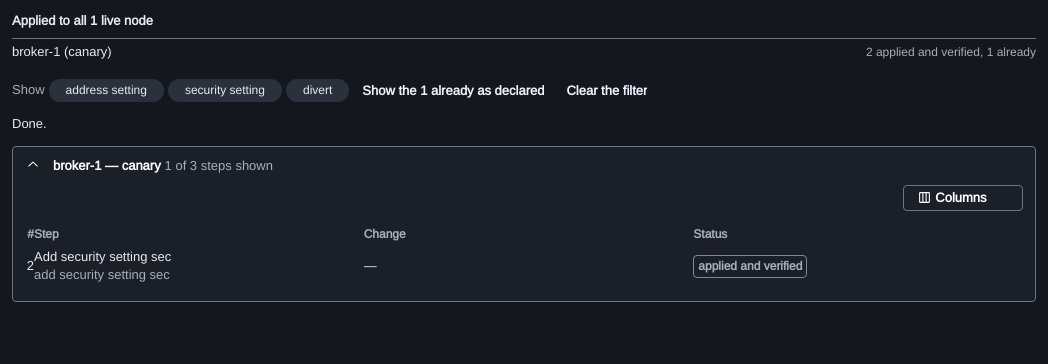
Test: ApplyResult step tables › narrows to the key drift hands over, and shows everything once the filter is cleared
This screenshot has width=1048, height=364.
expect the text "Add security setting sec" is shown: met, box [34,248,171,265]
expect the text "Replace address setting orders.#" is not shown: met
Click the button "Clear the filter" at (607, 90), box [557,77,656,103]
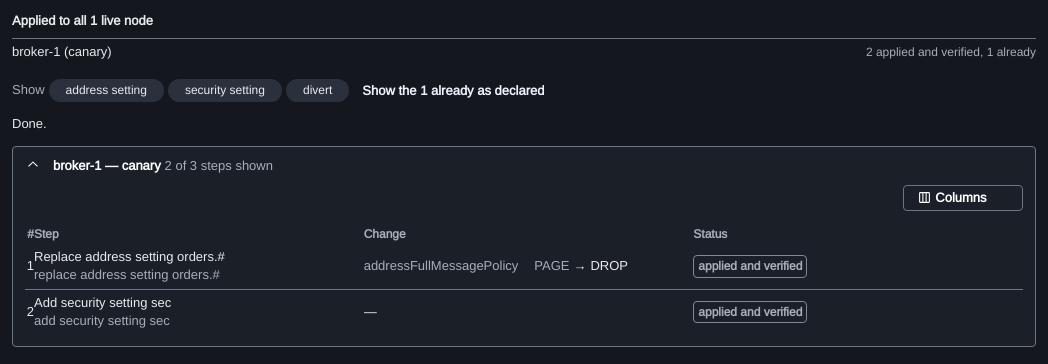
expect the text "Replace address setting orders.#" is shown: met, box [34,248,225,265]
